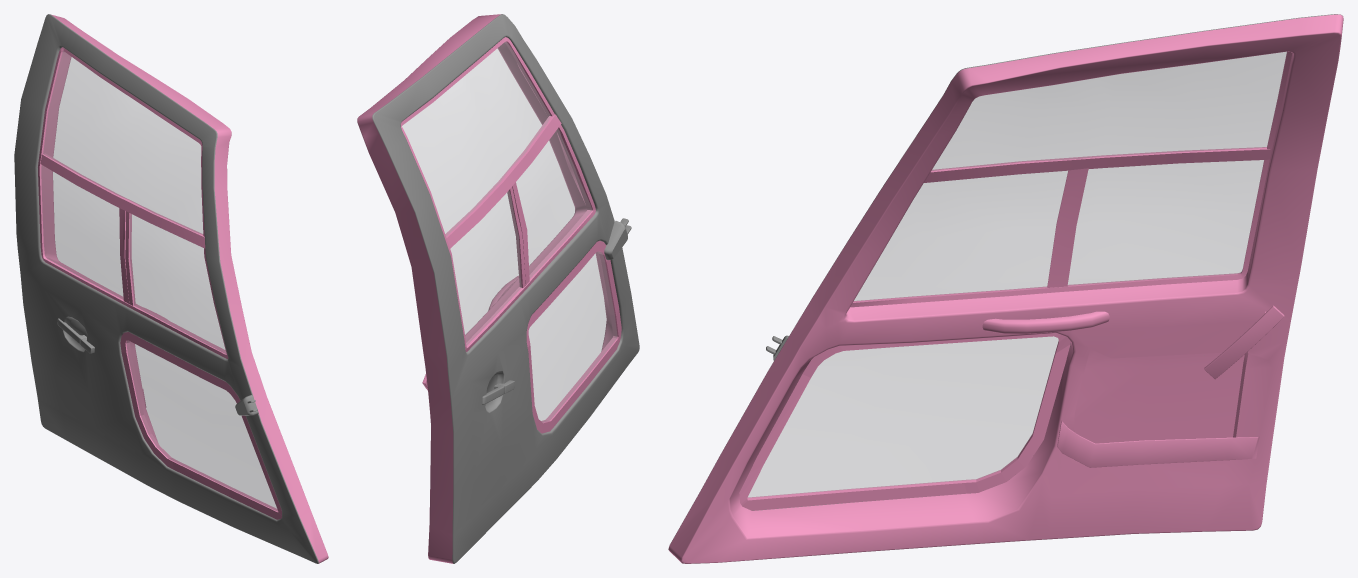
File: H155_men01.FBX
3 views of the same model, side by side, from view 1: azimuth 30°, elevation 25°; view 2: azimuth 150°, elevation 25°; view 3: azimuth 270°, elevation 25° (orthographic). The views are drawn at different scales.
Visible parts, largest first — view 1: H155_men01; view 2: H155_men01; view 3: H155_men01, menbashou001.
Boxes of the visible parts, bbox=[...] form: H155_men01: bbox=[14, 14, 328, 563]; H155_men01: bbox=[357, 14, 639, 563]; H155_men01: bbox=[668, 14, 1343, 563]; menbashou001: bbox=[1204, 305, 1284, 379].
Bounding box in the file's own units: 0.3216 × 1.25 × 1.45.
